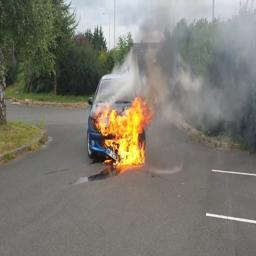fire: (95, 96, 153, 168)
